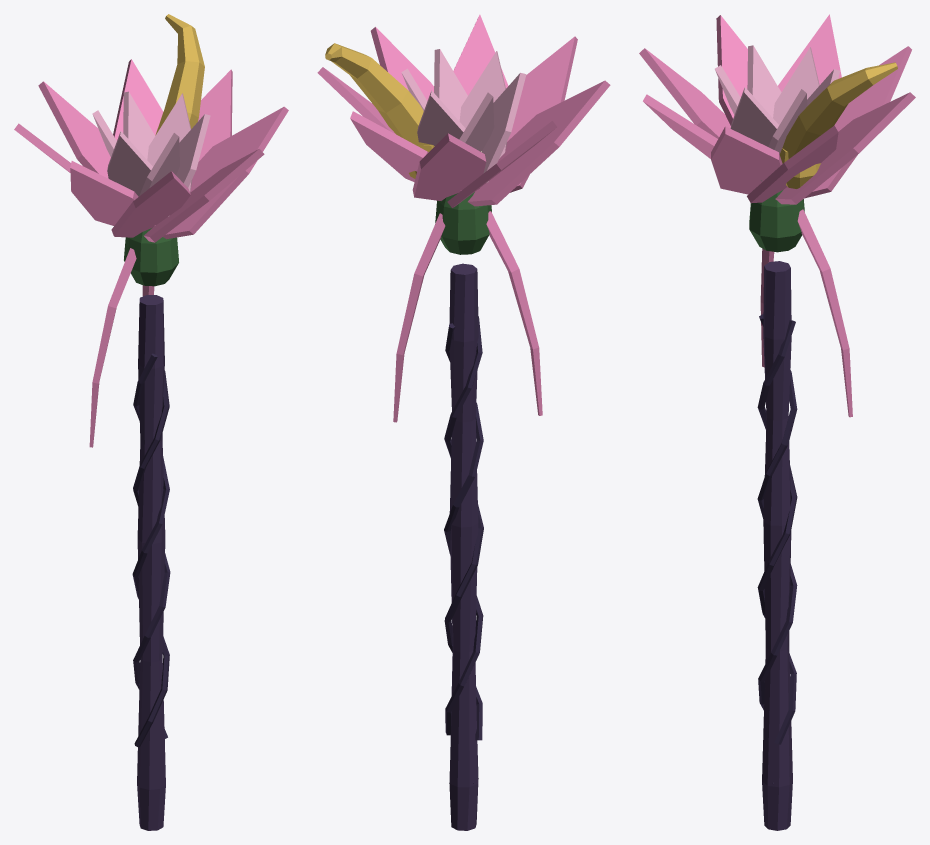
The model's file is staff_blossom.glb.
3 renders of one model, left to right at view 1: azimuth 30°, elevation 25°; view 2: azimuth 150°, elevation 25°; view 3: azimuth 270°, elevation 25°, orthographic. The views are drawn at different scales.
Parts seen in each view (by area): view 1: Bl_Shaft, Bl_PetalO6, Bl_Horn, Bl_PetalO1, Bl_PetalO4, Bl_PetalO3, Bl_Recept, Bl_PetalO5, Bl_Vine1, Bl_PetalO7, Bl_Vine0, Bl_PetalI2 (+7 smaller); view 2: Bl_Shaft, Bl_PetalO3, Bl_Horn, Bl_PetalO1, Bl_PetalO4, Bl_Recept, Bl_Vine1, Bl_Vine0, Bl_PetalO0, Bl_Ribbon1, Bl_Ribbon0, Bl_PetalI2 (+8 smaller); view 3: Bl_Shaft, Bl_Horn, Bl_PetalO0, Bl_PetalO6, Bl_Recept, Bl_Vine0, Bl_PetalO4, Bl_PetalO1, Bl_PetalO7, Bl_Ribbon0, Bl_Vine1, Bl_PetalO3 (+6 smaller).
Part boxes in pixels (box(x1,y1,x2,y2)): Bl_Shaft: box(137, 295, 165, 830); Bl_PetalO6: box(163, 106, 288, 239); Bl_Horn: box(155, 14, 204, 135); Bl_PetalO1: box(38, 81, 110, 178); Bl_PetalO4: box(111, 171, 190, 237); Bl_PetalO3: box(70, 161, 155, 226); Bl_Recept: box(124, 228, 178, 286); Bl_PetalO5: box(144, 149, 264, 242); Bl_Vine1: box(132, 353, 169, 747); Bl_PetalO7: box(198, 69, 232, 161); Bl_Vine0: box(133, 370, 170, 738); Bl_PetalI2: box(107, 131, 152, 196); Bl_Shaft: box(449, 263, 478, 830); Bl_PetalO3: box(468, 80, 610, 206); Bl_Horn: box(325, 43, 434, 146); Bl_PetalO1: box(412, 133, 486, 200); Bl_PetalO4: box(507, 36, 577, 192); Bl_Recept: box(435, 192, 491, 254); Bl_Vine1: box(444, 316, 483, 740); Bl_Vine0: box(444, 323, 483, 735); Bl_PetalO0: box(350, 111, 461, 190); Bl_Ribbon1: box(486, 211, 542, 415); Bl_Ribbon0: box(393, 213, 445, 422); Bl_PetalI2: box(481, 72, 526, 182); Bl_Shaft: box(762, 261, 792, 830); Bl_Horn: box(782, 62, 897, 158); Bl_PetalO0: box(775, 92, 915, 204); Bl_PetalO6: box(711, 126, 787, 194); Bl_Recept: box(749, 190, 804, 252); Bl_Vine0: box(757, 320, 797, 744); Bl_PetalO4: box(639, 48, 730, 138); Bl_PetalO1: box(804, 46, 911, 198); Bl_PetalO7: box(747, 125, 838, 203); Bl_Ribbon0: box(797, 209, 852, 417); Bl_Vine1: box(757, 314, 797, 710); Bl_PetalO3: box(716, 15, 747, 125).
Bounding box in the file's own units: 0.6739 × 2.15 × 0.6739.
